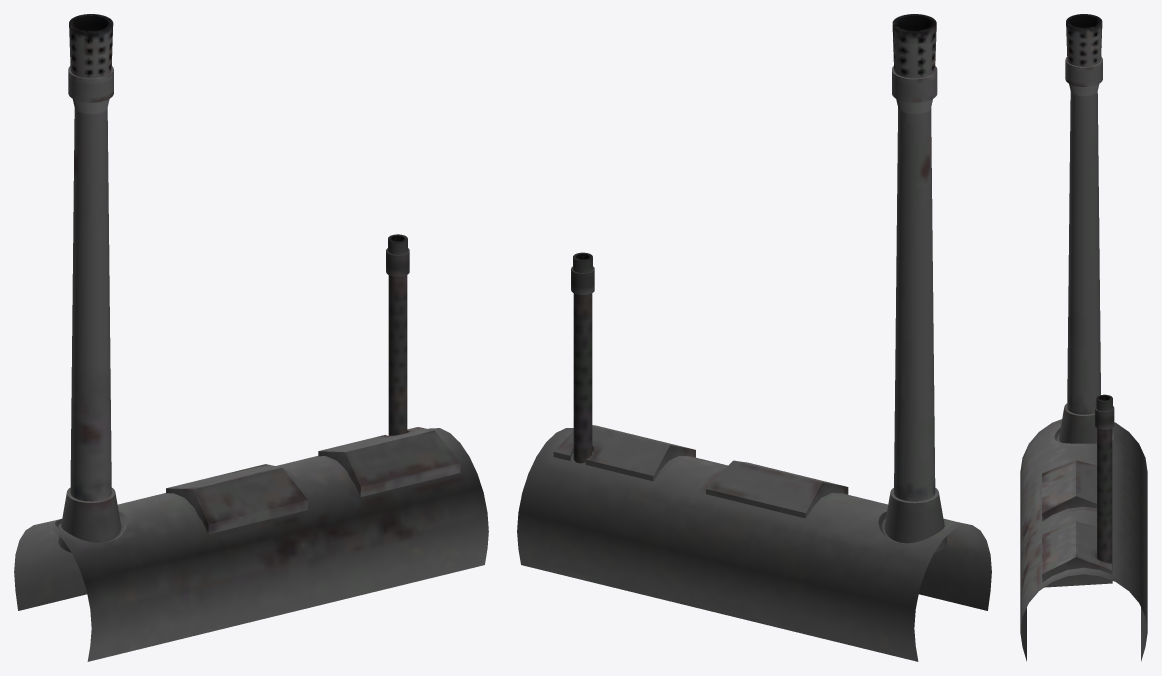
Rendered from Gun_01.glb.
3 views of the same model, side by side, from view 1: azimuth 30°, elevation 25°; view 2: azimuth 150°, elevation 25°; view 3: azimuth 270°, elevation 25° (orthographic). The views are drawn at different scales.
Parts seen in each view (by area): view 1: set_0_group_0; view 2: set_0_group_0; view 3: set_0_group_0.
Part boxes in pixels (box(x1,y1,x2,y2)): set_0_group_0: box(14, 14, 488, 661); set_0_group_0: box(517, 14, 991, 661); set_0_group_0: box(1020, 14, 1147, 661).
Bounding box in the file's own units: 0.7421 × 1.08 × 0.2509.
1 material, 1 textured.
